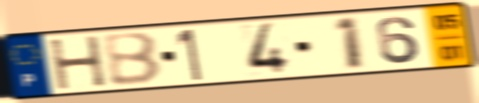1: (334, 15, 370, 71), (175, 27, 205, 83)
4: (244, 20, 293, 78)
6: (374, 15, 423, 65)
B: (99, 30, 165, 88)
H: (45, 33, 110, 92)
